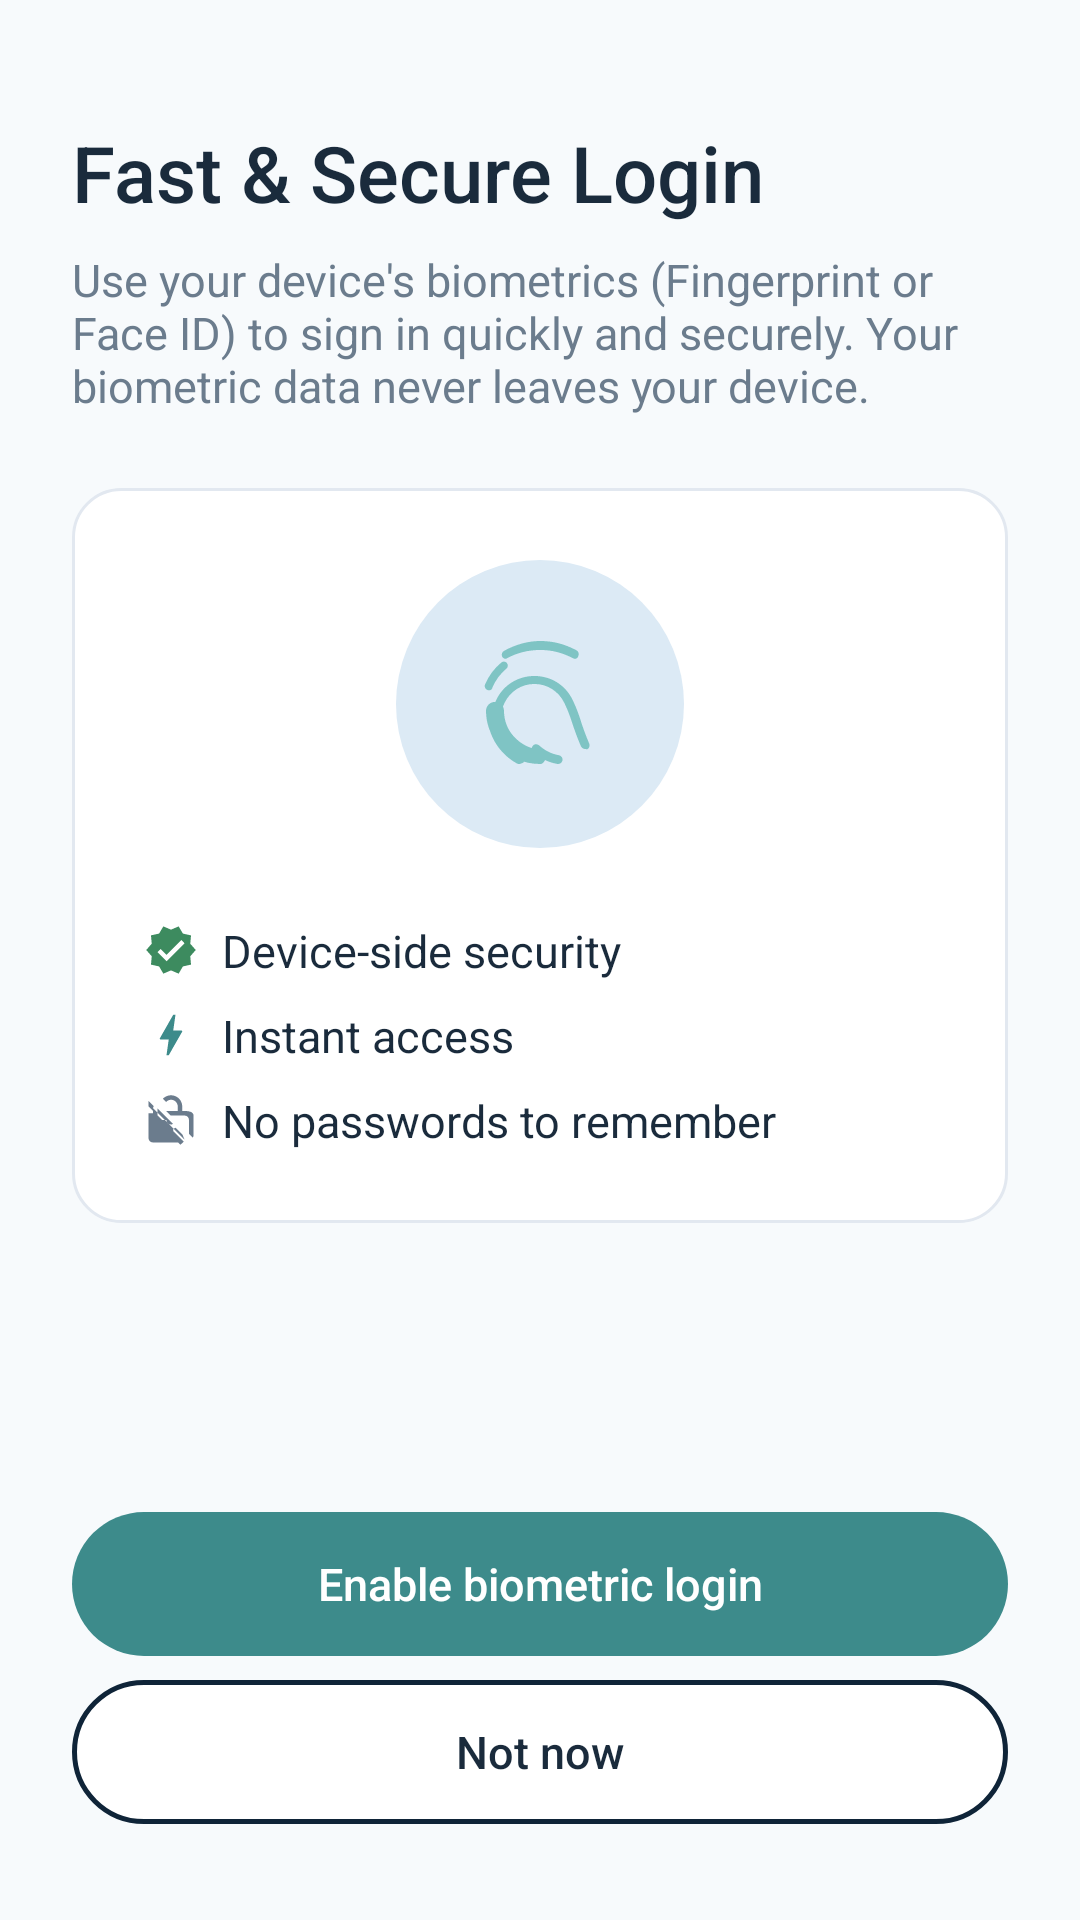

Screen size 1080×1920. Icon name, then its center in pixels as point (x, y):
bolt: point (171, 1035)
fingerprint: point (537, 702)
verified: point (171, 950)
